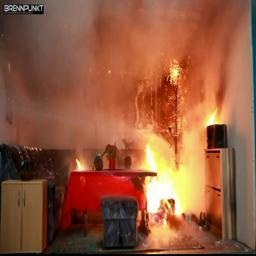fire: (140, 144, 184, 218)
smoke: (16, 14, 186, 138)
